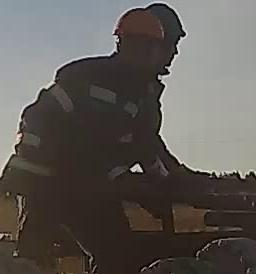helmet: (111, 6, 167, 42)
vest: (35, 58, 150, 222)
